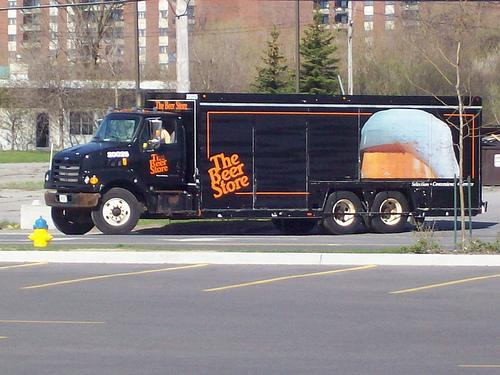truck: (44, 91, 488, 236)
